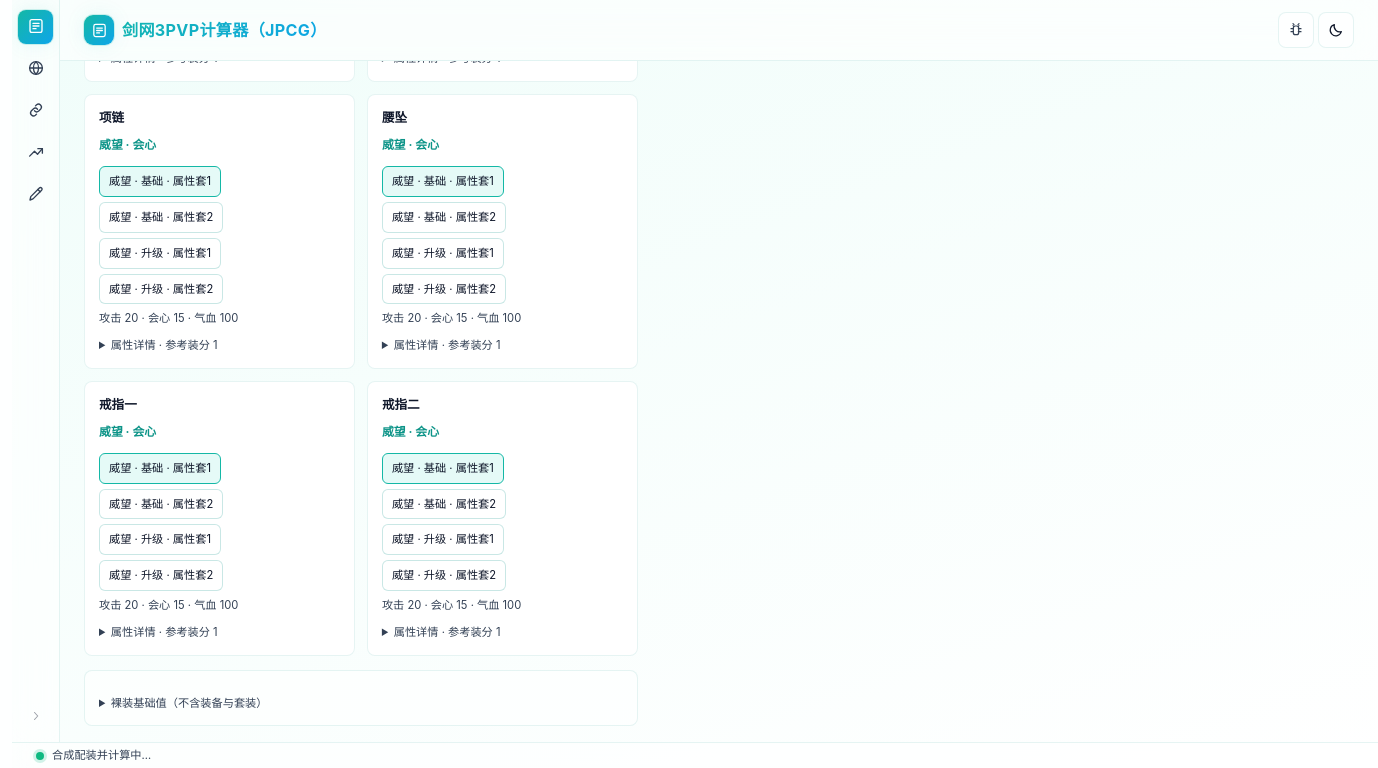
it: 迟到合成响应不覆盖较新的配装；版本/值集不匹配不会计算
The image size is (1378, 768).
(page scrolled)
Click the button "威望 · 基础 · 属性套2" below "戒指一": coordinates (161, 504) [99, 489, 223, 519]
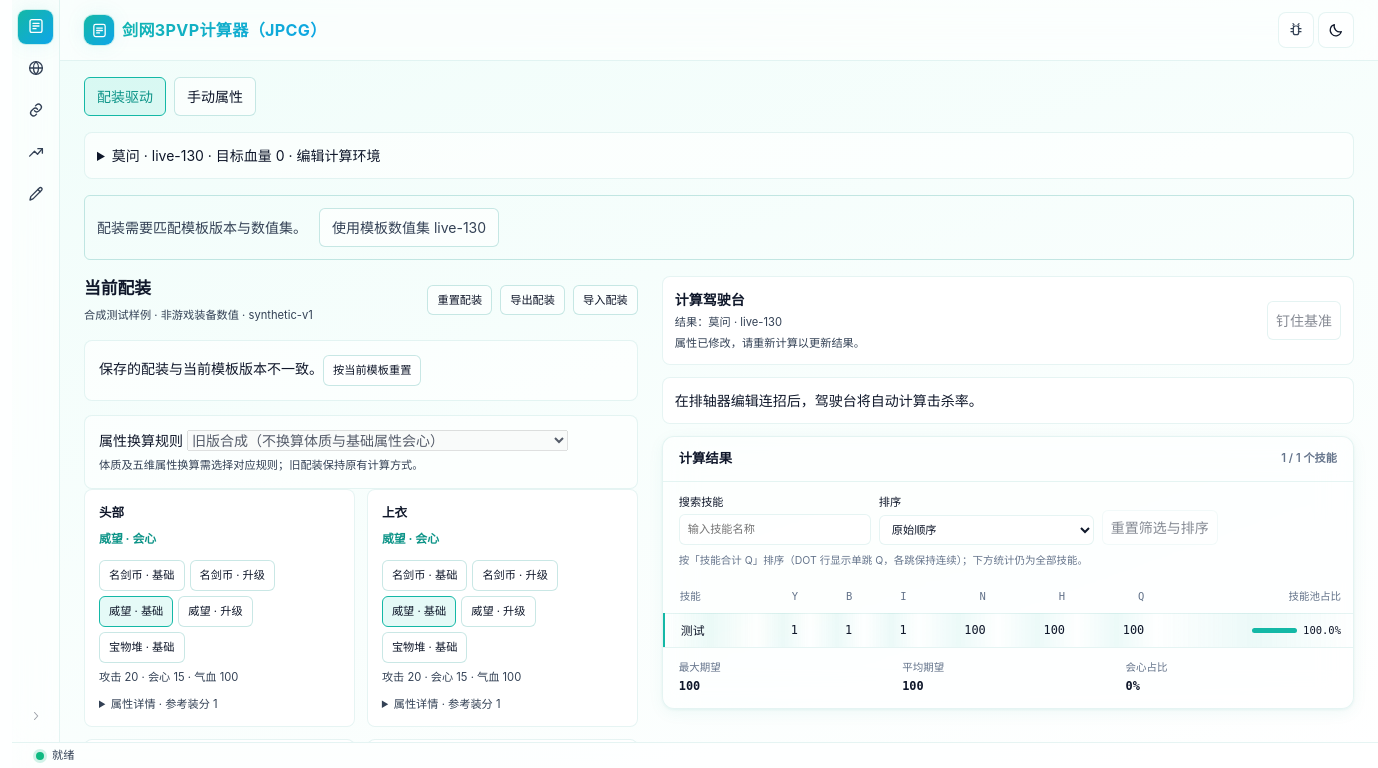
Expected: the text "保存的配装与当前模板版本不一致" is shown, [99, 360, 323, 377]
